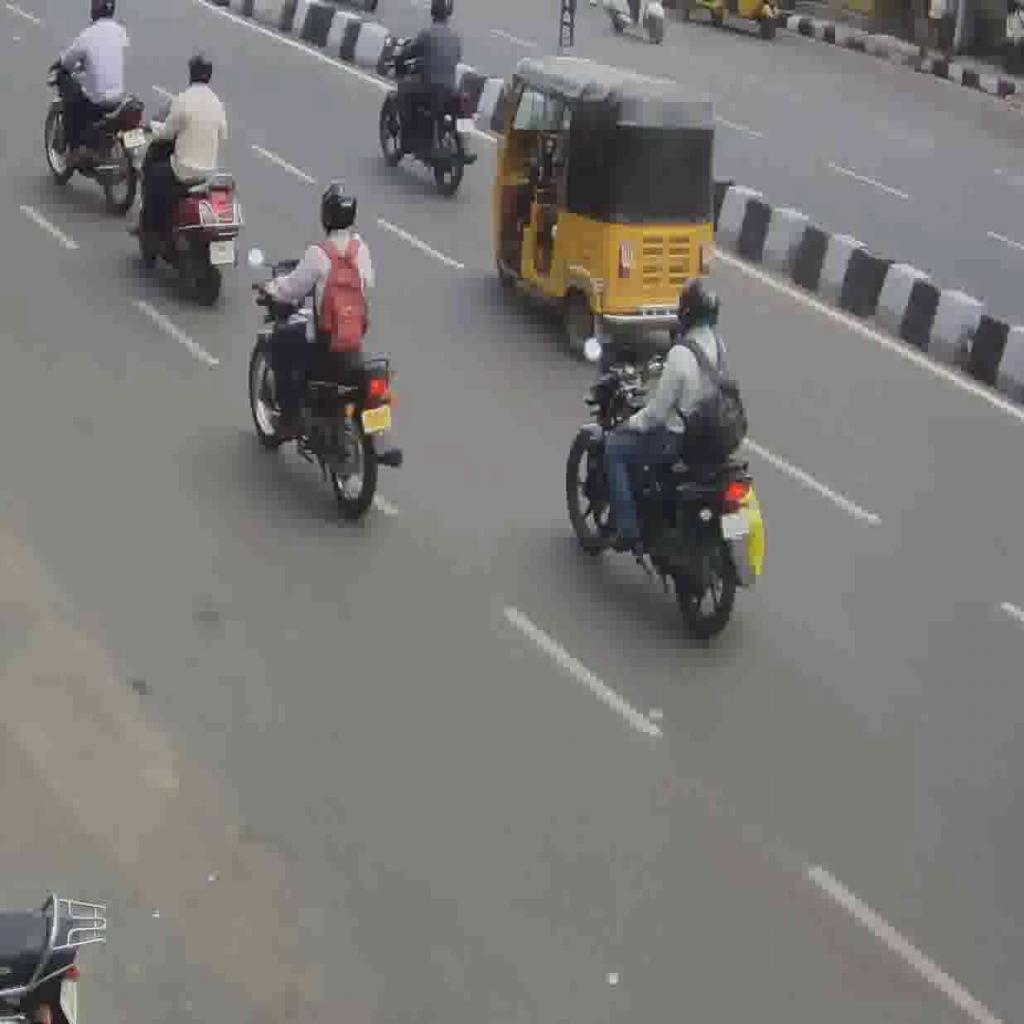helmet: (564, 347, 754, 638), (248, 255, 406, 516), (138, 99, 244, 306), (44, 48, 146, 212), (378, 36, 478, 194)
